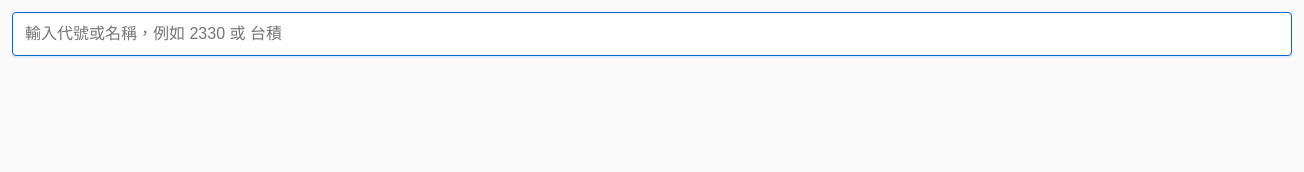
Test: SearchPage › should show error message on API error
Type "test" into the search field named "搜尋股票代號或名稱" at (652, 34), box left=12, top=12, right=1292, bottom=56
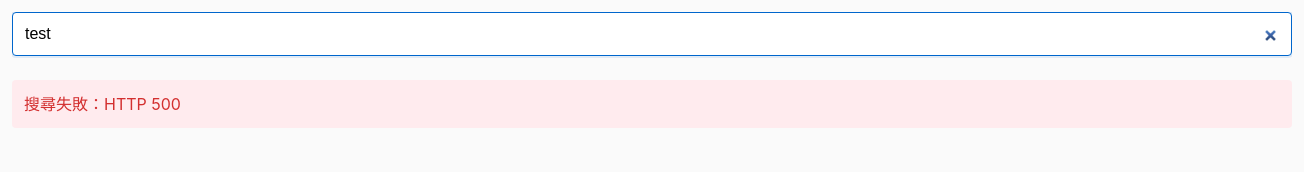
Expected: the message "搜尋失敗：HTTP 500" is shown, left=12, top=80, right=1292, bottom=128
Expected: the message shows "搜尋失敗", left=24, top=94, right=104, bottom=114
